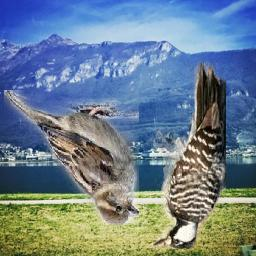Sparrow: (5, 91, 140, 226)
Woodpecker: (152, 61, 227, 250)
